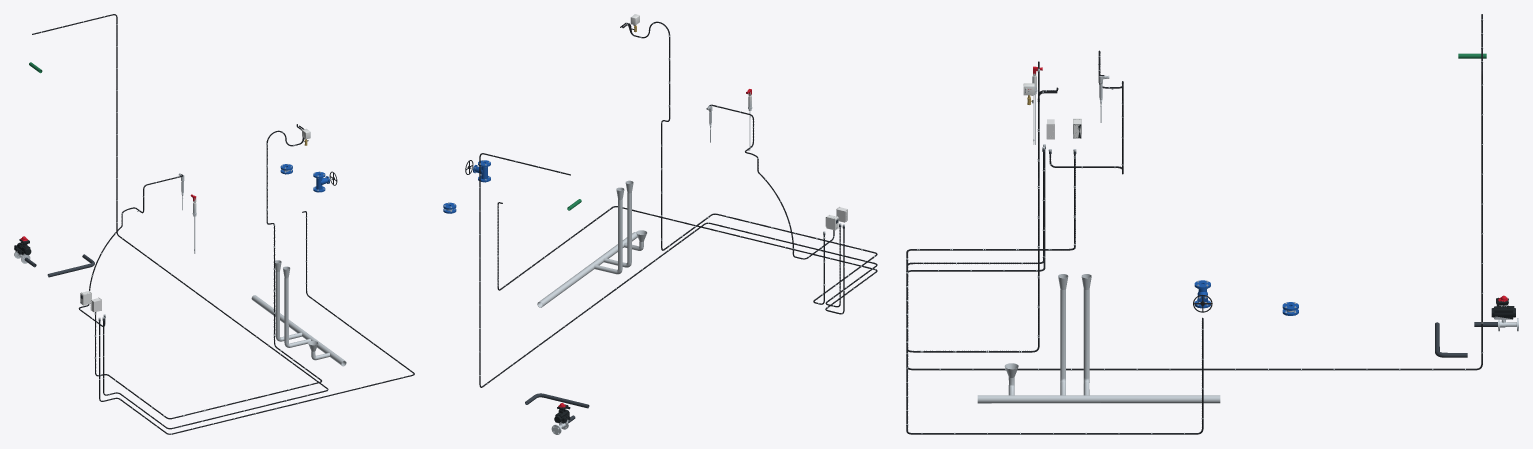
File: s4000-4-tla04uLC.glb
3 views of the same model, side by side, from view 1: azimuth 30°, elevation 25°; view 2: azimuth 150°, elevation 25°; view 3: azimuth 270°, elevation 25° (orthographic). The views are drawn at different scales.
Visible parts, largest first — view 1: local_open_drains / steel, mod_eco_drive_cable / black, wiring_pump_1 / black, wiring_pressure_switch_3 / black, wiring_pressure_transmitter / black, wiring_low_level_2 / black; view 2: local_open_drains / steel, mod_eco_drive_cable / black, wiring_pump_1 / black, wiring_pressure_transmitter / black, wiring_pressure_switch_3 / black, wiring_low_level_2 / black; view 3: local_open_drains / steel, mod_eco_drive_cable / black, wiring_pump_1 / black, wiring_pressure_transmitter / black, wiring_pressure_switch_3 / black, bcv7432 / bcv7432_0.npz.
Part boxes in pixels (x1,y1,x2,y2): local_open_drains / steel: (251, 260, 346, 366); mod_eco_drive_cable / black: (32, 14, 328, 429); wiring_pump_1 / black: (99, 211, 414, 434); wiring_pressure_switch_3 / black: (95, 125, 321, 419); wiring_pressure_transmitter / black: (95, 124, 321, 419); wiring_low_level_2 / black: (78, 174, 183, 326); local_open_drains / steel: (537, 180, 647, 307); mod_eco_drive_cable / black: (479, 153, 877, 387); wiring_pump_1 / black: (497, 202, 877, 314); wiring_pressure_transmitter / black: (622, 21, 876, 303); wiring_pressure_switch_3 / black: (620, 21, 877, 304); wiring_low_level_2 / black: (709, 104, 834, 259); local_open_drains / steel: (977, 274, 1220, 403); mod_eco_drive_cable / black: (906, 14, 1482, 370); wiring_pump_1 / black: (906, 152, 1203, 434); wiring_pressure_transmitter / black: (906, 61, 1075, 352); wiring_pressure_switch_3 / black: (906, 61, 1075, 352); bcv7432 / bcv7432_0.npz: (1491, 295, 1518, 331).
Size of the model in its own units: 3.99 by 3.02 by 5.23.
